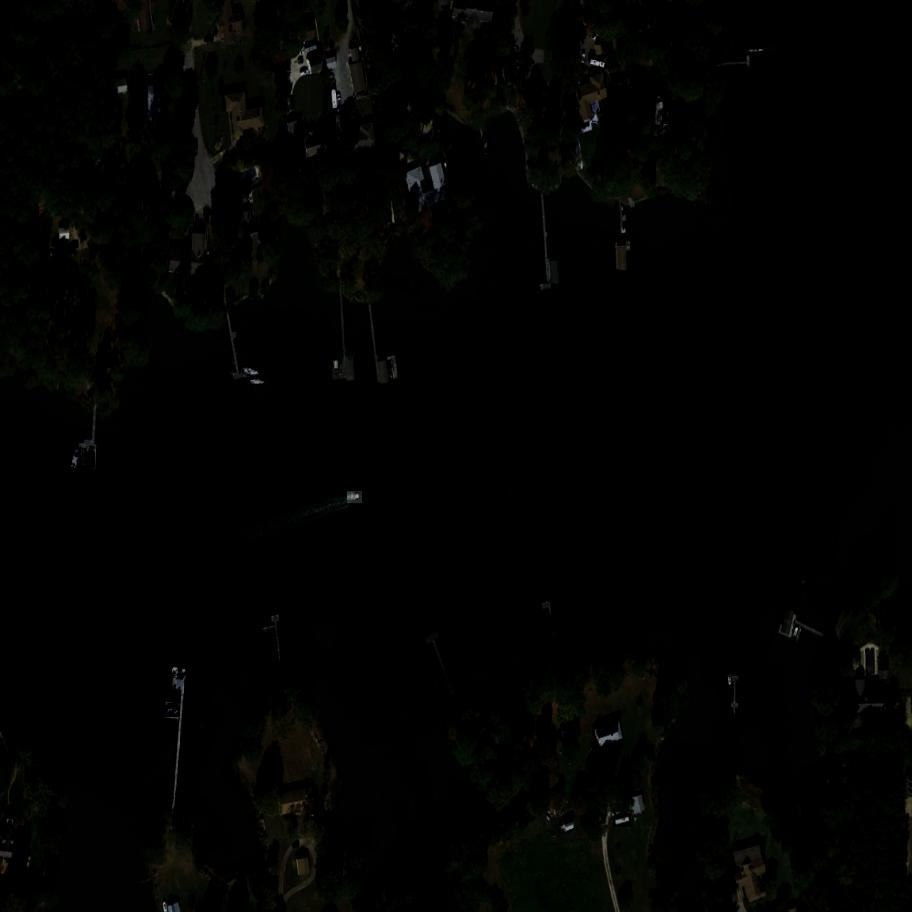large-vehicle: (614, 814, 632, 828)
ship: (69, 447, 82, 474), (244, 364, 264, 380), (168, 664, 187, 676), (482, 136, 493, 154), (347, 491, 362, 503), (165, 706, 180, 718), (246, 378, 265, 386), (86, 451, 94, 468)
